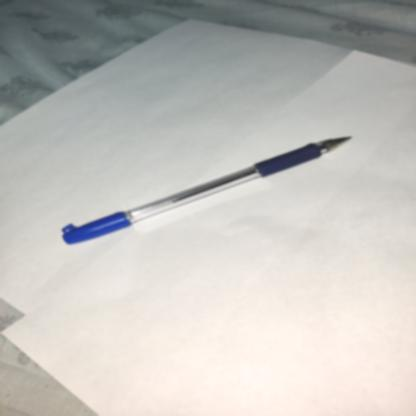pen: (45, 126, 360, 255)
